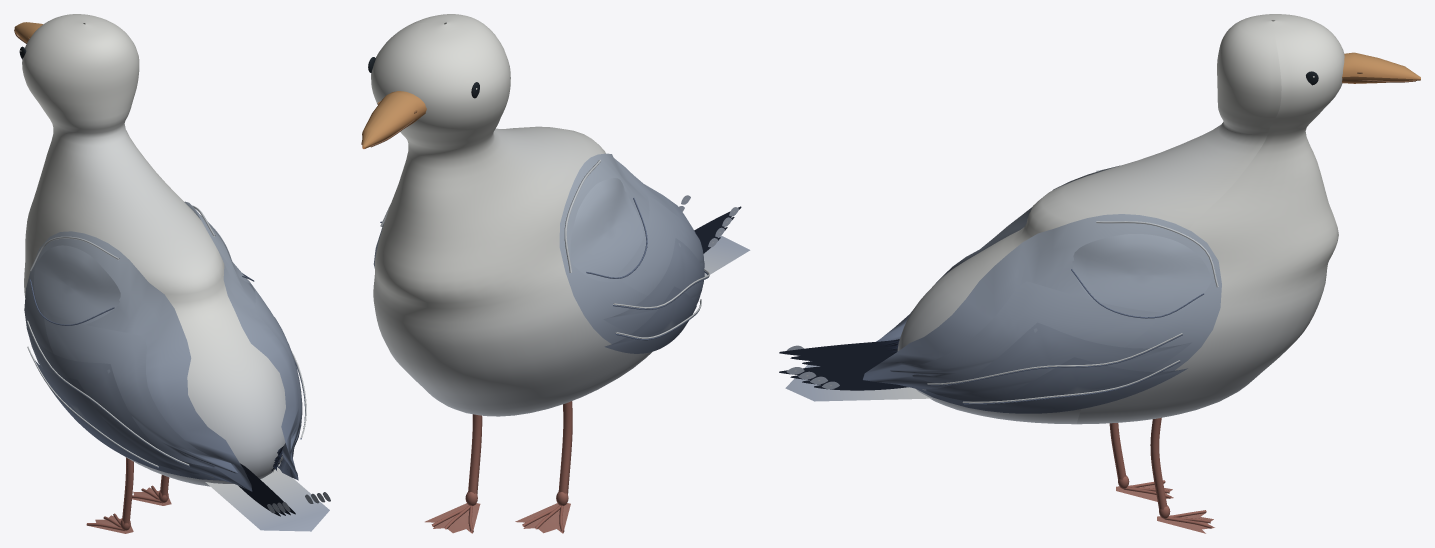
Rendered from perched-gull.glb.
3 views of the same model, side by side, from view 1: azimuth 30°, elevation 25°; view 2: azimuth 150°, elevation 25°; view 3: azimuth 270°, elevation 25° (orthographic). The views are drawn at different scales.
Parts seen in each view (by area): view 1: painted-perched-gull; view 2: painted-perched-gull; view 3: painted-perched-gull.
Boxes of the visible parts, <box> form: painted-perched-gull: <box>14,14,330,533</box>; painted-perched-gull: <box>361,14,750,533</box>; painted-perched-gull: <box>779,14,1420,533</box>.
Size of the model in its own units: 0.5125 by 1.05 by 1.25.
